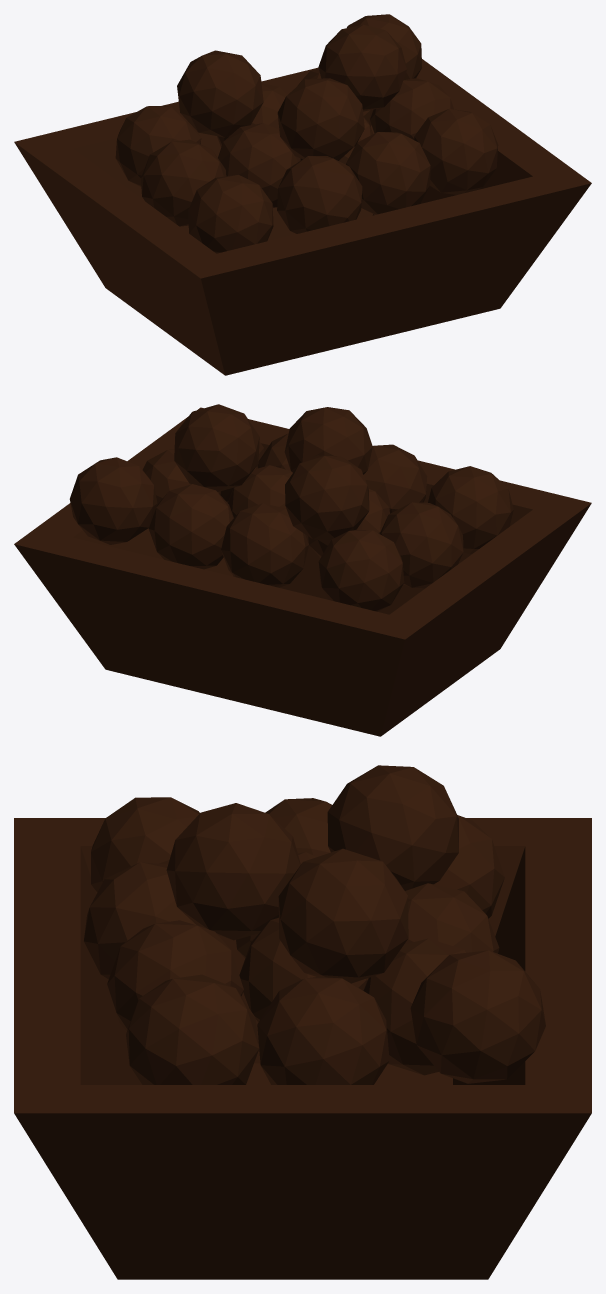
The model's file is coconutFarm0.obj.
3 views of the same model, one above another, from view 1: azimuth 30°, elevation 25°; view 2: azimuth 150°, elevation 25°; view 3: azimuth 270°, elevation 25° (orthographic). The views are drawn at different scales.
Parts seen in each view (by area): view 1: Cube; view 2: Cube; view 3: Cube.
Boxes of the visible parts, x1,y1,x2,y2 form: Cube: (14,14,591,375); Cube: (14,404,591,736); Cube: (14,765,591,1279).
Bounding box in the file's own units: 6.03 × 3.56 × 4.98.
